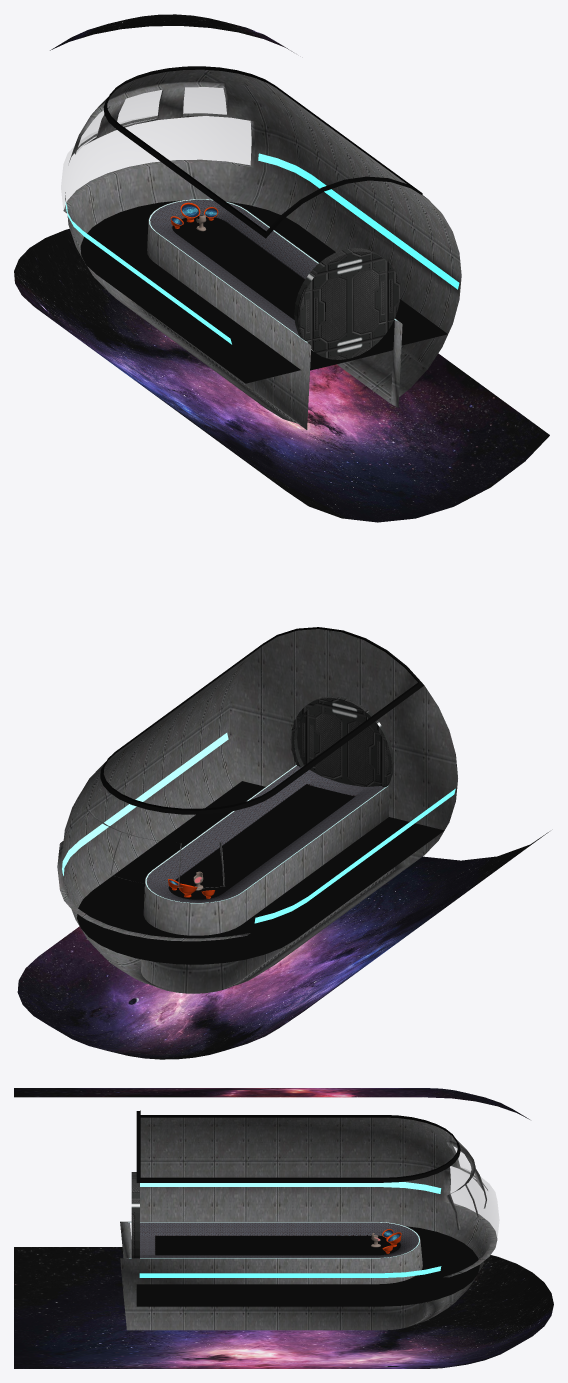
Rendered from ship4.glb.
3 renders of one model, top to bottom at view 1: azimuth 30°, elevation 25°; view 2: azimuth 150°, elevation 25°; view 3: azimuth 270°, elevation 25°, orthographic. The views are drawn at different scales.
Parts seen in each view (by area): view 1: Sci-Fi Space Station, Sci-Fi_Space Station_RoofBackdrop_bottom, Sci-Fi_Space Station_RoofBackdrop_0; view 2: Sci-Fi Space Station, Sci-Fi_Space Station_RoofBackdrop_bottom; view 3: Sci-Fi Space Station, Sci-Fi_Space Station_RoofBackdrop_bottom, Sci-Fi_Space Station_RoofBackdrop_0.
Part boxes in pixels (x1=…): Sci-Fi Space Station: x1=61, y1=66, x2=461, y2=429; Sci-Fi_Space Station_RoofBackdrop_bottom: x1=14, y1=229, x2=549, y2=522; Sci-Fi_Space Station_RoofBackdrop_0: x1=50, y1=14, x2=293, y2=52; Sci-Fi Space Station: x1=57, y1=627, x2=457, y2=993; Sci-Fi_Space Station_RoofBackdrop_bottom: x1=17, y1=831, x2=549, y2=1059; Sci-Fi Space Station: x1=120, y1=1110, x2=499, y2=1330; Sci-Fi_Space Station_RoofBackdrop_bottom: x1=14, y1=1247, x2=553, y2=1368; Sci-Fi_Space Station_RoofBackdrop_0: x1=14, y1=1088, x2=529, y2=1119.
Bounding box in the file's own units: 23.54 × 24.95 × 49.6.
Materials: 14 (6 with a texture image).
